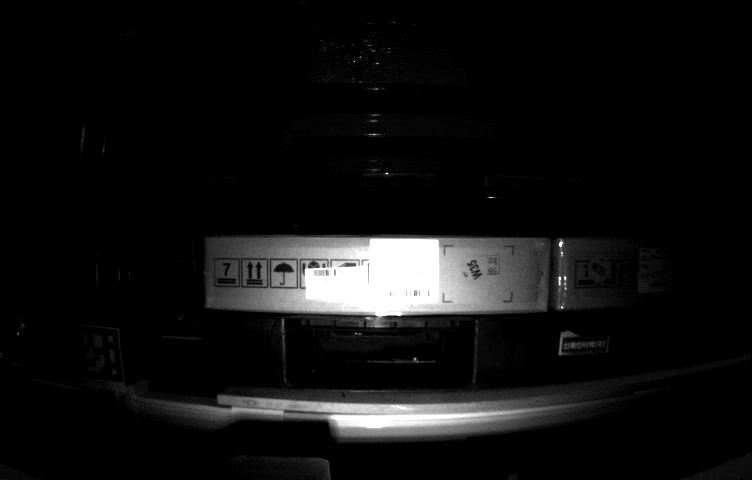True Barcode: (642, 246, 675, 289)
